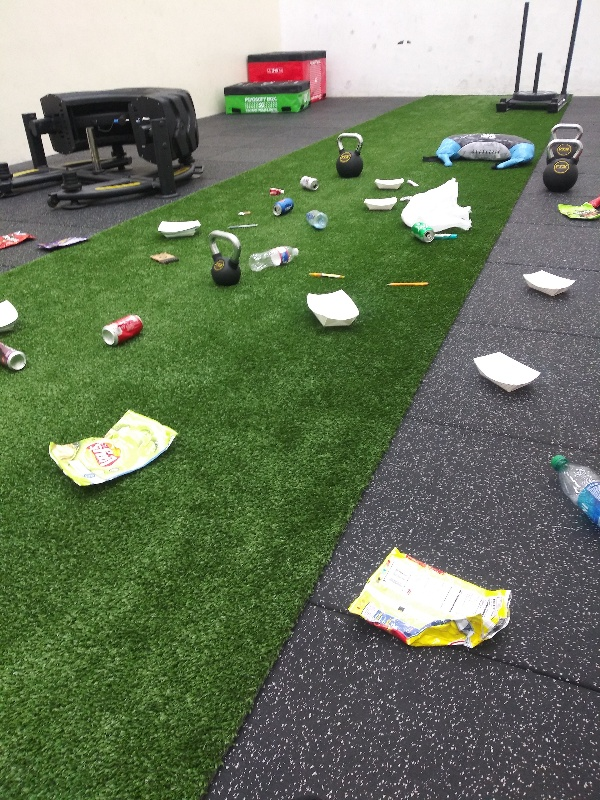bag: (343, 544, 515, 659), (41, 408, 178, 495), (37, 230, 98, 252), (549, 198, 600, 224), (1, 226, 36, 255)
bottle: (543, 450, 600, 542), (246, 244, 306, 271), (300, 205, 330, 230)
can: (100, 310, 145, 349), (1, 343, 28, 373), (267, 193, 296, 220), (409, 219, 437, 244), (294, 172, 321, 193)
plate: (467, 349, 547, 397), (305, 288, 367, 330), (519, 267, 580, 302), (152, 216, 203, 239), (1, 297, 23, 343), (359, 193, 398, 213), (368, 175, 408, 192)
